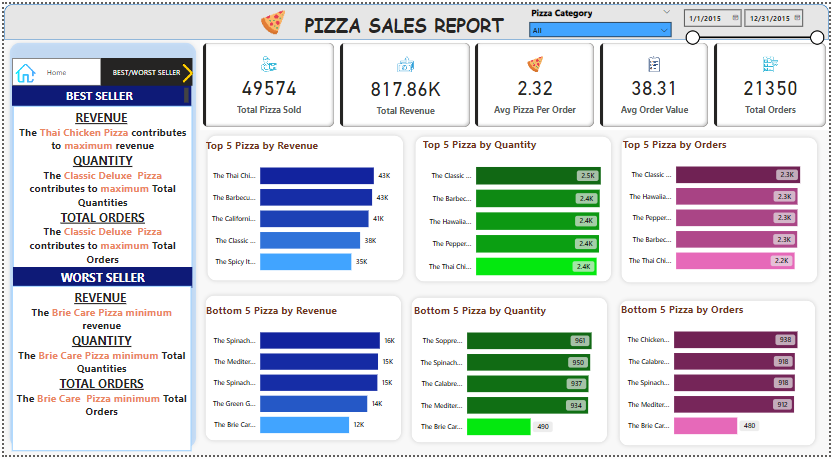

This screenshot's page, from the dashboard's own definition file:
{"tool":"powerbi","page":{"name":"BEST/WORST SELLER","canvas":[1500,820],"ordinal":1},"visuals":[{"type":"cardVisual","fields":{"Data":["pizza_sales.Total Revenue","pizza_sales.Total Revenue"]},"box":[605.5,65.5,247.3,163.6],"z":0},{"type":"shape","box":[0,0,1500,65],"z":1000},{"type":"cardVisual","fields":{"Data":["pizza_sales.Avg Order Value"]},"box":[1078.2,65.5,207.3,163.6],"z":2000},{"type":"textbox","box":[536,10,382,56],"z":3000},{"type":"cardVisual","fields":{"Data":["pizza_sales.Total Orders"]},"box":[1285.5,65.5,214.5,163.6],"z":4000},{"type":"image","box":[436,6,106,56],"z":5000},{"type":"cardVisual","fields":{"Data":["pizza_sales.Total Pizza Sold"]},"box":[356.4,65.5,249.1,163.6],"z":6000},{"type":"cardVisual","fields":{"Data":["pizza_sales.Avg Pizza Per Order"]},"box":[850.9,65.5,227.3,163.6],"z":7000},{"type":"shape","box":[362,230,372,280],"z":8000},{"type":"shape","box":[2,62,356,754],"z":9000},{"type":"textbox","box":[14,148,326,38],"z":10000},{"type":"textbox","box":[16,186,326,312],"z":11000},{"type":"textbox","box":[16,478,326,38],"z":12000},{"type":"textbox","box":[14,512,326,300],"z":13000},{"type":"slicer","fields":{"Values":["pizza_sales.pizza_category"]},"box":[946,0,278,62],"z":14000},{"type":"slicer","fields":{"Values":["pizza_sales.order_date"]},"box":[1224,0,276,84],"z":15000},{"type":"shape","box":[740,232,372,280],"z":16000},{"type":"shape","box":[1114,234,372,280],"z":17000},{"type":"shape","box":[358,522,372,280],"z":18000},{"type":"shape","box":[732,526,372,280],"z":19000},{"type":"shape","box":[1110,530,372,280],"z":20000},{"type":"barChart","title":"Top 5 Pizza by Revenue","fields":{"Category":["pizza_sales.pizza_name"],"Y":["pizza_sales.Total Revenue"]},"box":[362,244,366,262],"z":21000},{"type":"barChart","title":"Bottom 5 Pizza by Revenue","fields":{"Category":["pizza_sales.pizza_name"],"Y":["pizza_sales.Total Revenue"]},"box":[362,544,366,258],"z":22000},{"type":"barChart","title":"Bottom 5 Pizza by Quantity","fields":{"Category":["pizza_sales.pizza_name"],"Y":["pizza_sales.Total Pizza Sold"]},"box":[740,544,358,262],"z":23000},{"type":"barChart","title":"Top 5 Pizza by Quantity","fields":{"Category":["pizza_sales.pizza_name"],"Y":["pizza_sales.Total Pizza Sold"]},"box":[756,242,358,274],"z":24000},{"type":"barChart","title":"Top 5 Pizza by Orders","fields":{"Category":["pizza_sales.pizza_name"],"Y":["pizza_sales.Total Orders"]},"box":[1120,242,358,262],"z":25000},{"type":"barChart","title":"Bottom 5 Pizza by Orders","fields":{"Category":["pizza_sales.pizza_name"],"Y":["pizza_sales.Total Orders"]},"box":[1116,542,358,262],"z":26000},{"type":"pageNavigator","box":[14,98,162,50],"z":27000},{"type":"pageNavigator","box":[176,98,166,50],"z":28000},{"type":"image","box":[16,102,46,48],"z":29000},{"type":"image","box":[310,102,46,48],"z":30000}]}

Visuals, with their boxes in screenshot pixels (x1, y1, x2, y2), scaled from the page's 1500x820 canvas onto the 832x459 screenshot:
cardVisual - pizza_sales.Total Revenue x pizza_sales.Total Revenue: <region>336, 37, 473, 128</region>
shape: <region>0, 0, 831, 36</region>
cardVisual - pizza_sales.Avg Order Value: <region>598, 37, 713, 128</region>
textbox: <region>297, 6, 509, 37</region>
cardVisual - pizza_sales.Total Orders: <region>713, 37, 831, 128</region>
image: <region>242, 3, 301, 35</region>
cardVisual - pizza_sales.Total Pizza Sold: <region>198, 37, 336, 128</region>
cardVisual - pizza_sales.Avg Pizza Per Order: <region>472, 37, 598, 128</region>
shape: <region>201, 129, 407, 285</region>
shape: <region>1, 35, 199, 457</region>
textbox: <region>8, 83, 189, 104</region>
textbox: <region>9, 104, 190, 279</region>
textbox: <region>9, 268, 190, 289</region>
textbox: <region>8, 287, 189, 455</region>
slicer - pizza_sales.pizza_category: <region>525, 0, 679, 35</region>
slicer - pizza_sales.order_date: <region>679, 0, 831, 47</region>
shape: <region>410, 130, 617, 287</region>
shape: <region>618, 131, 824, 288</region>
shape: <region>199, 292, 405, 449</region>
shape: <region>406, 294, 612, 451</region>
shape: <region>616, 297, 822, 453</region>
"Top 5 Pizza by Revenue" barChart: <region>201, 137, 404, 283</region>
"Bottom 5 Pizza by Revenue" barChart: <region>201, 305, 404, 449</region>
"Bottom 5 Pizza by Quantity" barChart: <region>410, 305, 609, 451</region>
"Top 5 Pizza by Quantity" barChart: <region>419, 135, 618, 289</region>
"Top 5 Pizza by Orders" barChart: <region>621, 135, 820, 282</region>
"Bottom 5 Pizza by Orders" barChart: <region>619, 303, 818, 450</region>
pageNavigator: <region>8, 55, 98, 83</region>
pageNavigator: <region>98, 55, 190, 83</region>
image: <region>9, 57, 34, 84</region>
image: <region>172, 57, 197, 84</region>
